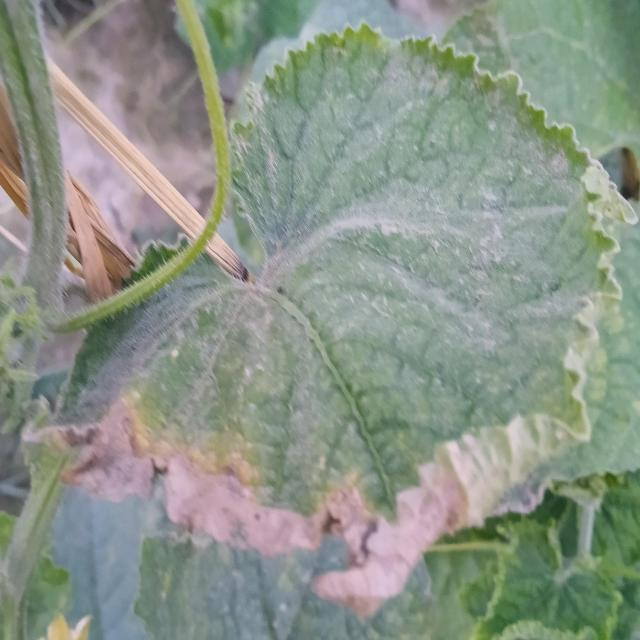cucumber_gummy: (17, 11, 640, 623)
